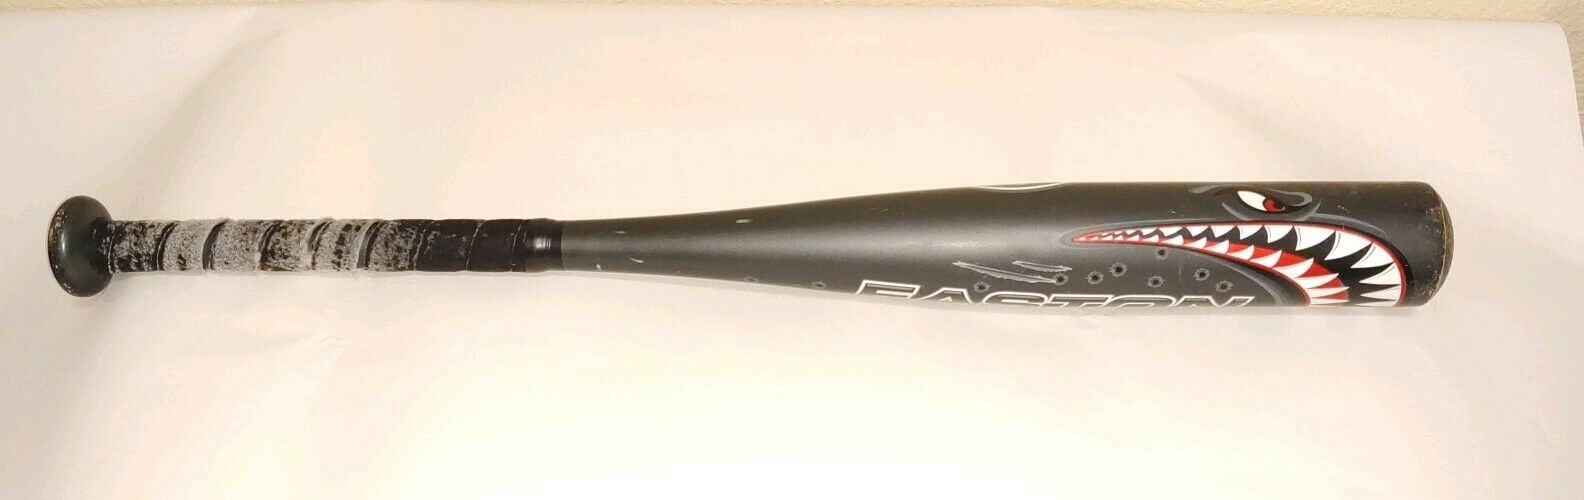bita: (36, 165, 1461, 313)
